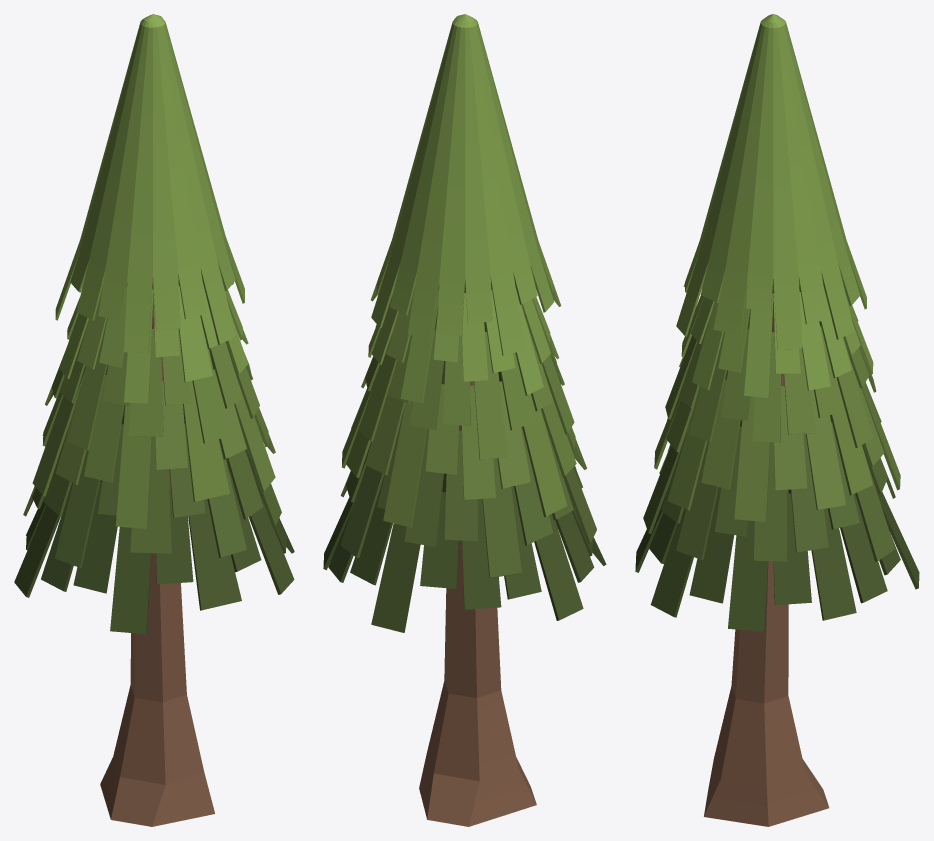
File: fir_tree_30.fbx
3 views of the same model, side by side, from view 1: azimuth 30°, elevation 25°; view 2: azimuth 150°, elevation 25°; view 3: azimuth 270°, elevation 25° (orthographic).
Parts seen in each view (by area): view 1: fir_tree_30; view 2: fir_tree_30; view 3: fir_tree_30.
Boxes of the visible parts, x1,y1,x2,y2 form: fir_tree_30: [14, 14, 294, 826]; fir_tree_30: [323, 14, 606, 826]; fir_tree_30: [635, 14, 919, 826].
Size of the model in its own units: 183 by 553 by 180.
